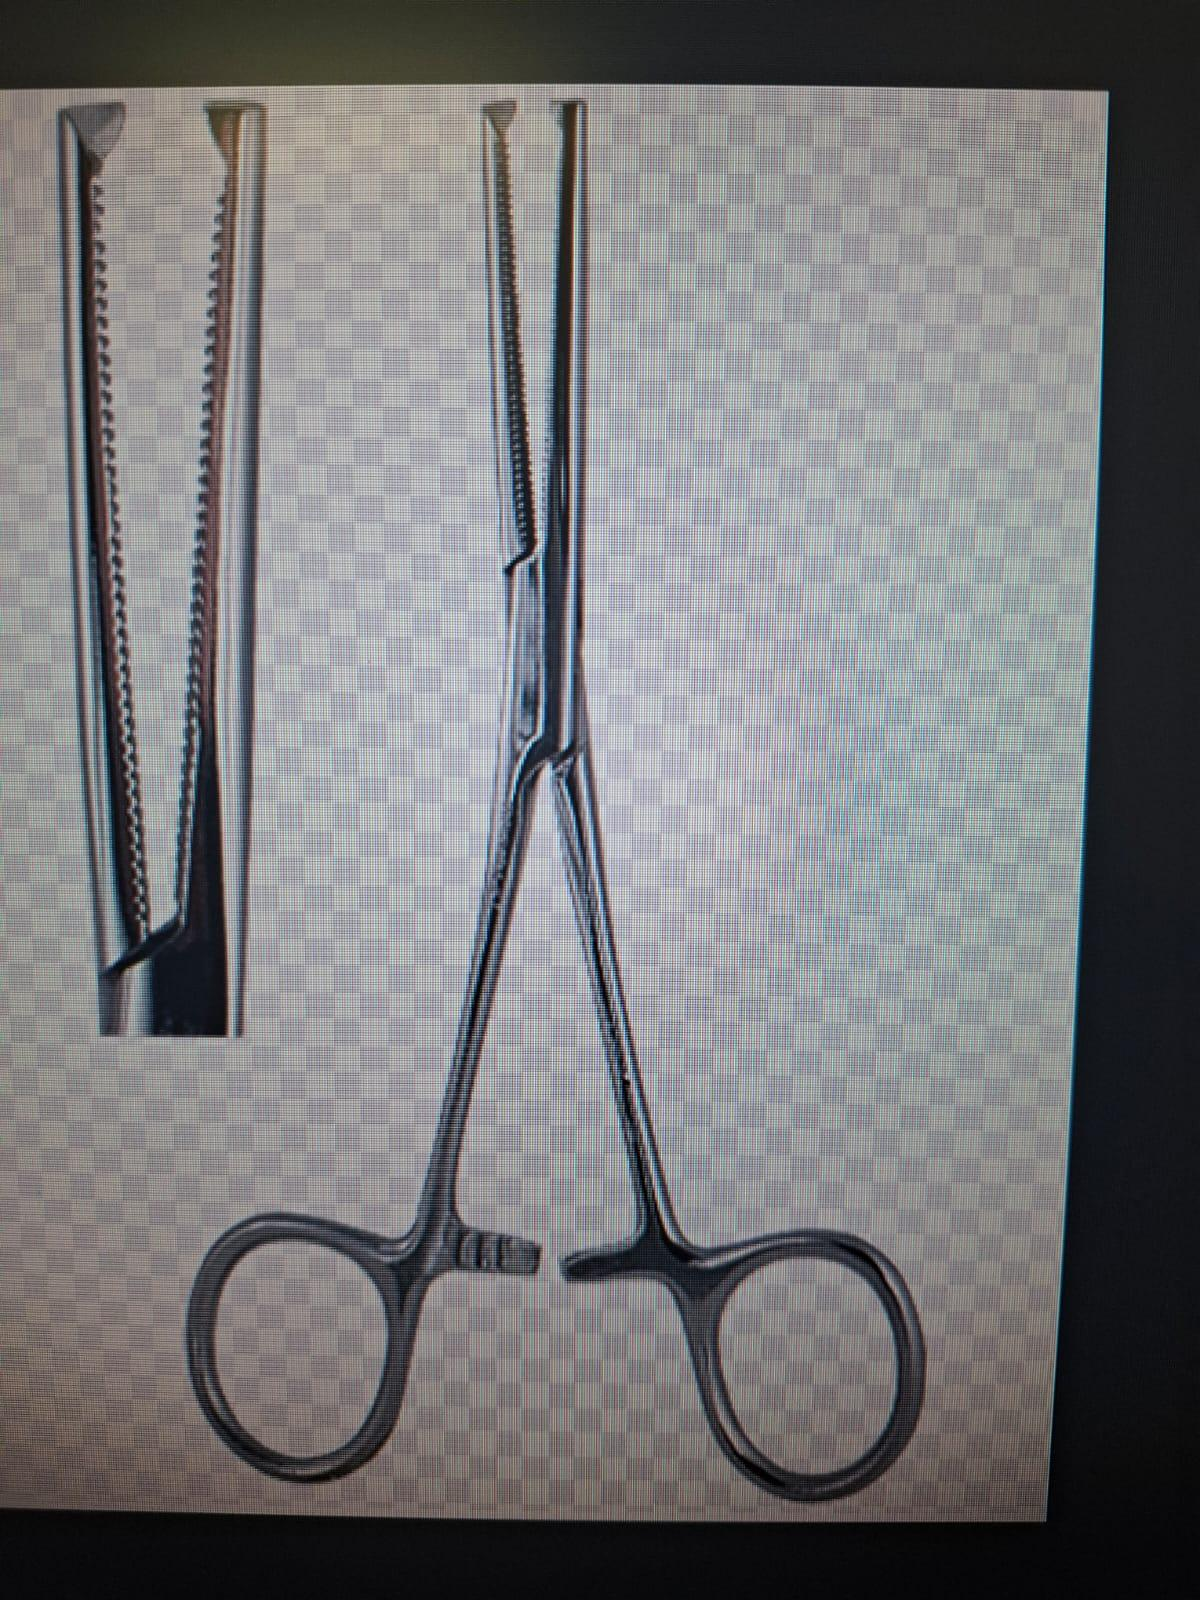Kocher Forceps: (185, 97, 943, 1511)
